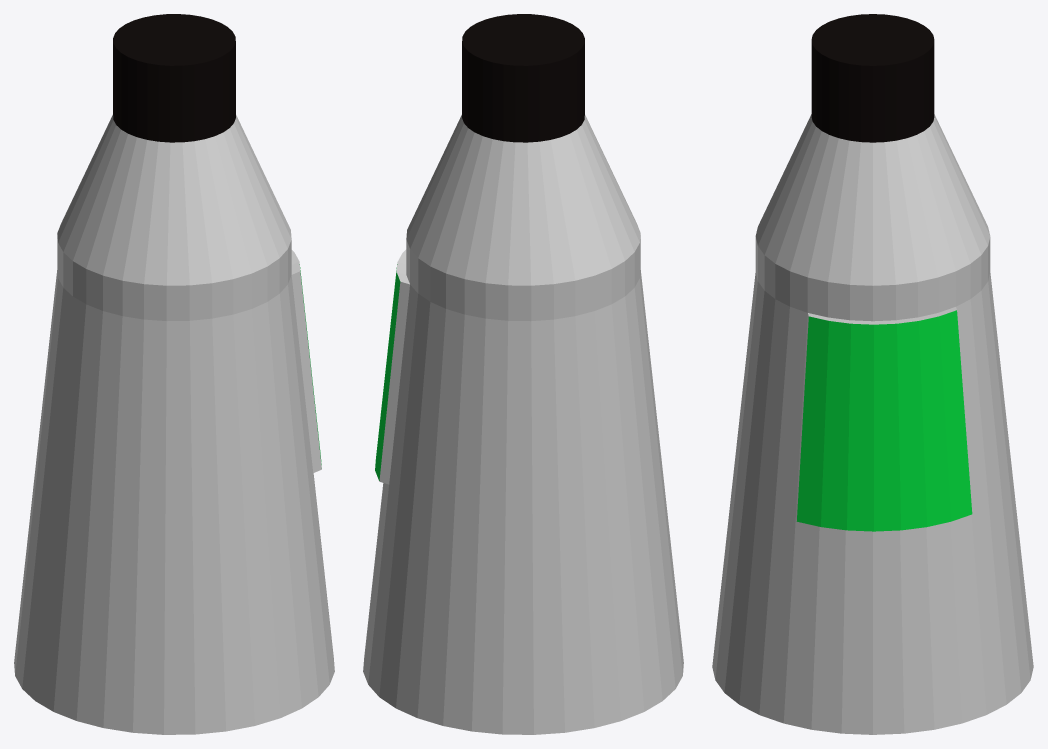
The model's file is bottle.fbx.
The picture shows the model from 3 angles, left to right: view 1: azimuth 30°, elevation 25°; view 2: azimuth 150°, elevation 25°; view 3: azimuth 270°, elevation 25°; orthographic projection.
Visible parts, largest first — view 1: Cylinder; view 2: Cylinder; view 3: Cylinder.
Boxes of the visible parts, left/top/right/bottom form: Cylinder: left=14, top=14, right=334, bottom=734; Cylinder: left=363, top=14, right=683, bottom=734; Cylinder: left=712, top=14, right=1033, bottom=734.
Bounding box in the file's own units: 102 × 219 × 102.
